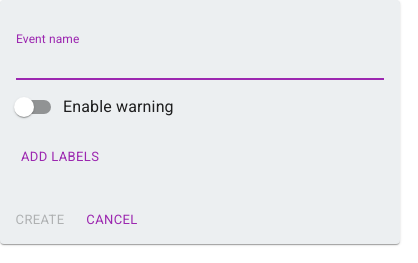
it: EditEventCard › Event name validation › enables button when valid name is entered
This screenshot has width=418, height=263.
Step 1. Type "Test Event" into the field labelled "Event name" → (200,64), box [16,48,384,80]
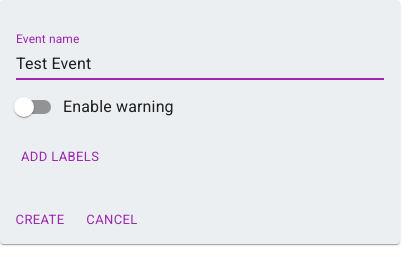
Check: the button "Create" is enabled, box [8,205,72,236]
